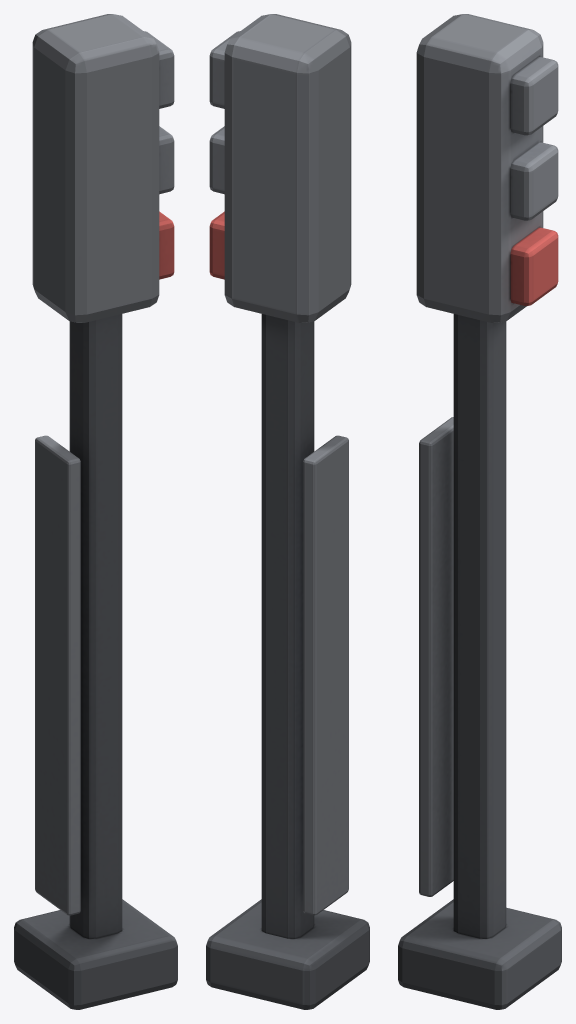
File: signal.glb
The picture shows the model from 3 angles, left to right: view 1: azimuth 30°, elevation 25°; view 2: azimuth 150°, elevation 25°; view 3: azimuth 330°, elevation 25°; orthographic projection.
Visible parts, largest first — view 1: signal; view 2: signal; view 3: signal.
Boxes of the visible parts, bbox=[...] form: signal: bbox=[14, 14, 177, 1009]; signal: bbox=[206, 14, 369, 1009]; signal: bbox=[398, 14, 561, 1009].
Bounding box in the file's own units: 0.44 × 3.32 × 0.4.
3 materials, 3 textured.
